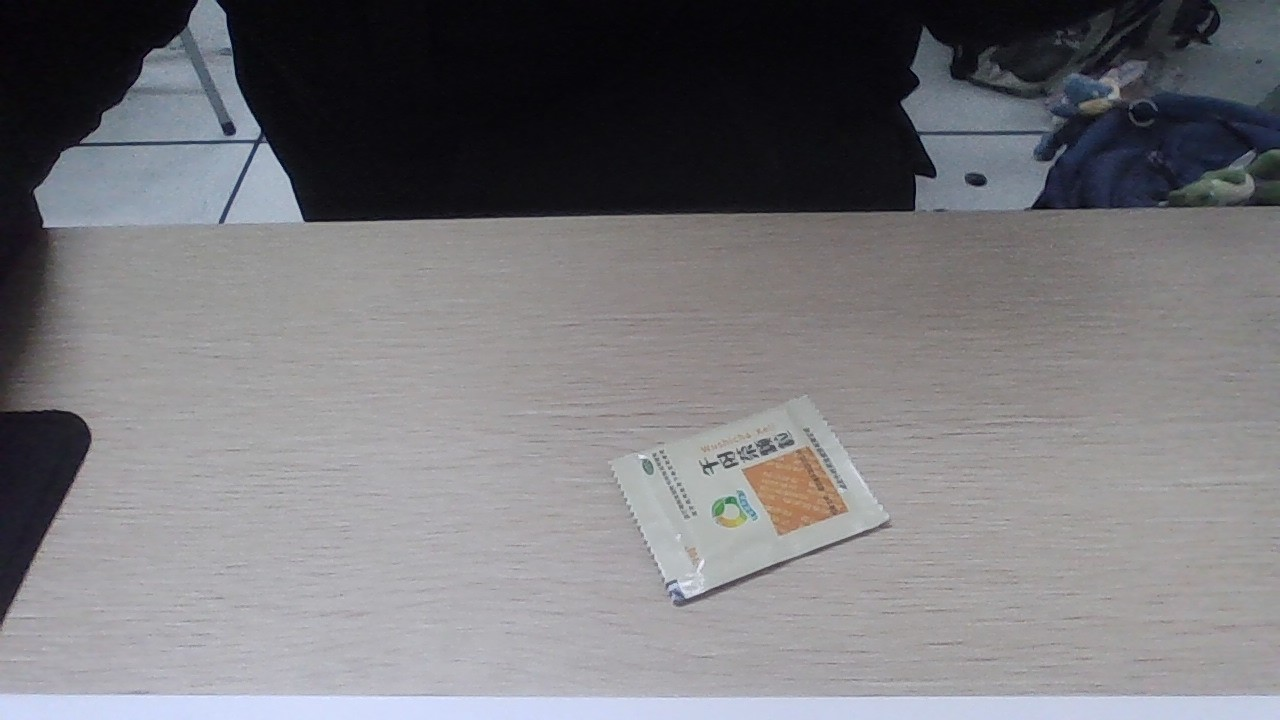YH-yellow medicine: (628, 411, 882, 593)
